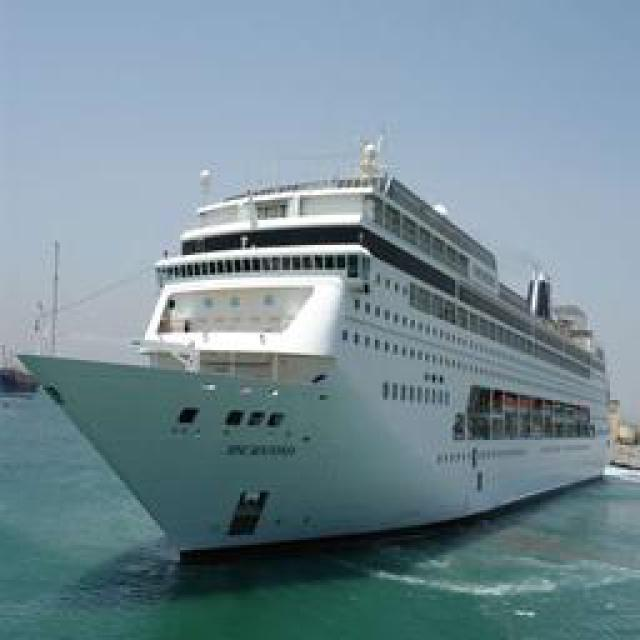Ship: (74, 130, 614, 568)
